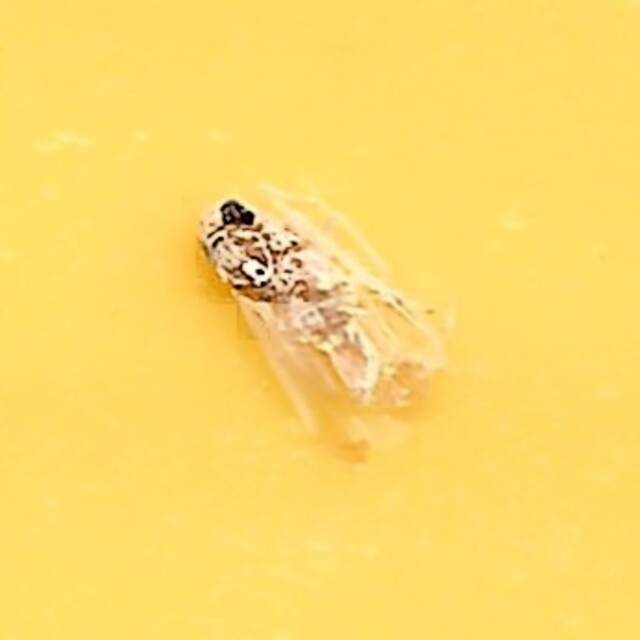Hemiptera: (185, 172, 455, 468)
